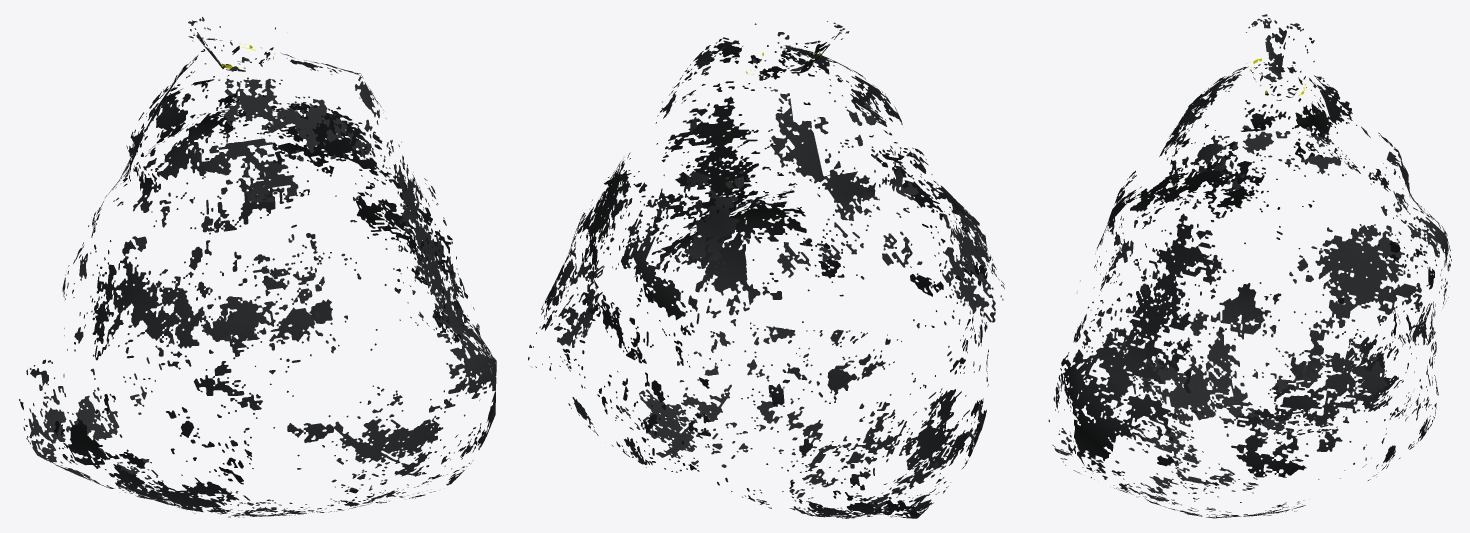
The model's file is trashbag1.obj.
3 renders of one model, left to right at view 1: azimuth 30°, elevation 25°; view 2: azimuth 150°, elevation 25°; view 3: azimuth 270°, elevation 25°, orthographic. The views are drawn at different scales.
Visible parts, largest first — view 1: pSphere1; view 2: pSphere1; view 3: pSphere1.
Part boxes in pixels (x1=…): pSphere1: x1=19, y1=17, x2=496, y2=517; pSphere1: x1=528, y1=21, x2=1004, y2=518; pSphere1: x1=1048, y1=14, x2=1451, y2=518.
Size of the model in its own units: 79.9 by 90.32 by 74.65.
